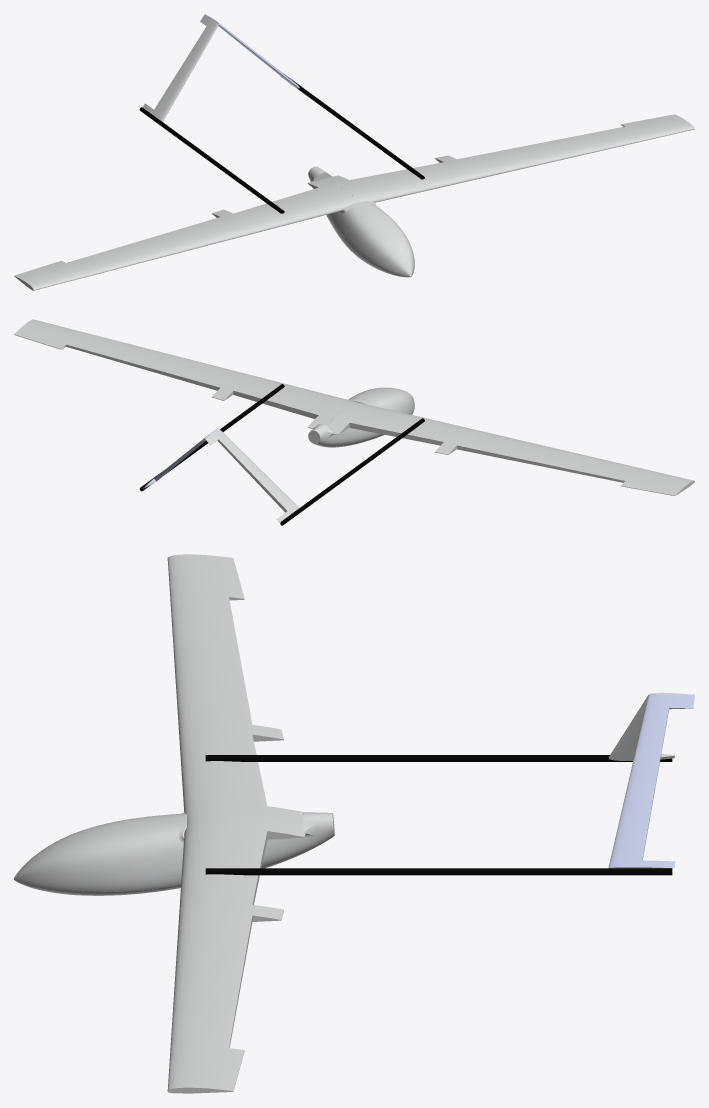
File: Albatross airframe without moveables.fbx
3 views of the same model, one above another, from view 1: azimuth 30°, elevation 25°; view 2: azimuth 150°, elevation 25°; view 3: azimuth 270°, elevation 25° (orthographic). The views are drawn at different scales.
Visible parts, largest first — view 1: albatross white, color-22, color-23; view 2: albatross white, color-22; view 3: albatross white, color-22, color-23.
Part boxes in pixels (left/top/right/bottom): albatross white: left=14, top=14, right=694, bottom=290; color-22: left=139, top=73, right=424, bottom=213; color-23: left=205, top=14, right=299, bottom=88; albatross white: left=14, top=319, right=694, bottom=522; color-22: left=139, top=384, right=424, bottom=525; albatross white: left=14, top=554, right=691, bottom=1093; color-22: left=205, top=755, right=672, bottom=875; color-23: left=608, top=694, right=694, bottom=868.
Bounding box in the file's own units: 301 × 50.87 × 162.
